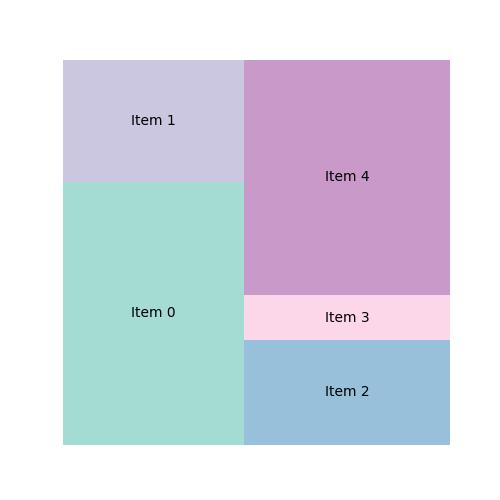rectangle: (243, 58, 451, 296), (63, 182, 242, 445), (62, 59, 243, 183), (242, 341, 451, 447), (242, 296, 451, 341)
